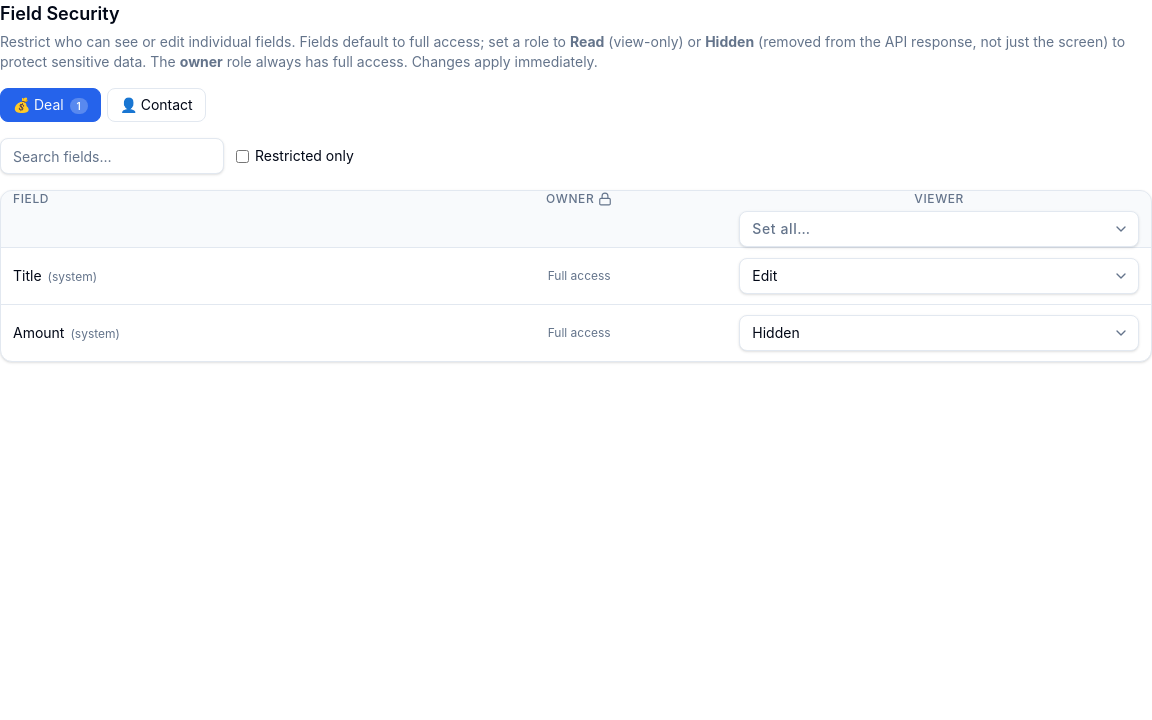
it: FieldSecurityManager — field × role level grid › bulk apply re-reads the grid, so the cells and the object badge show what landed
The image size is (1152, 720).
Expected: the text "Title" is shown, [13,267,42,284]
Step 1. Select "Read" in the dropdown named "Set all Viewer" → x=939, y=229, box [739,211,1139,247]
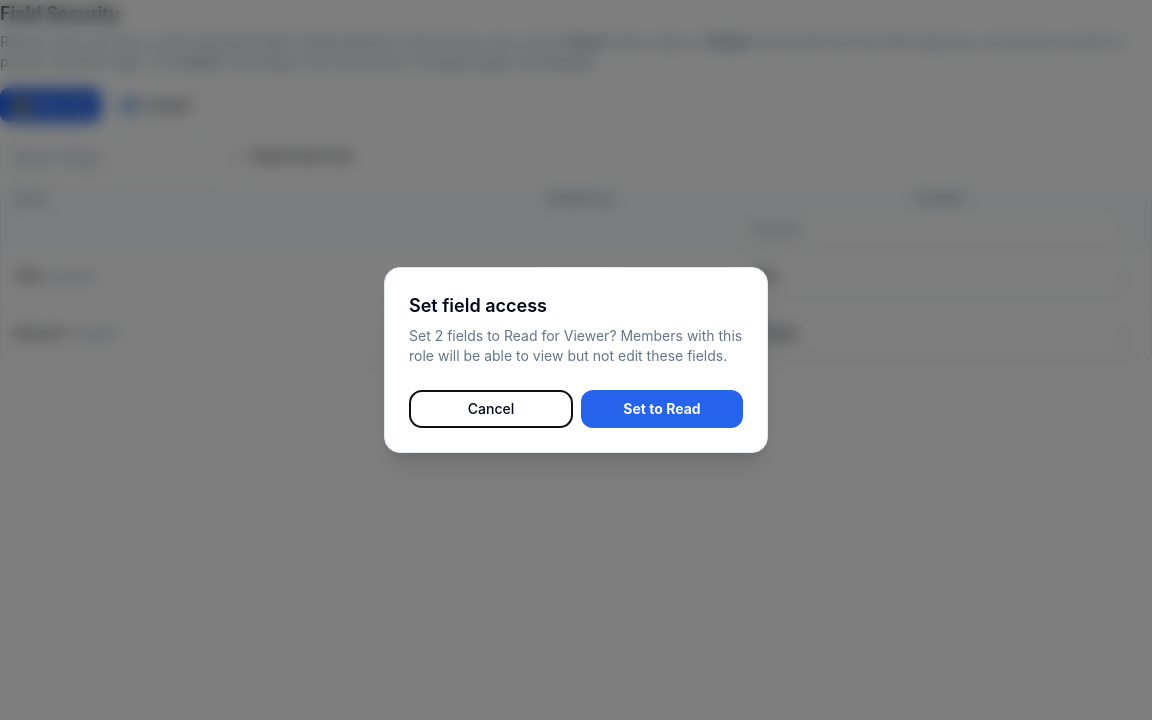
Expected: the dialog shows "Set 2 fields to Read for Viewer?", [409,327,742,364]
Step 2. Click the button "Set to Read" → x=662, y=409, box [581,390,743,428]
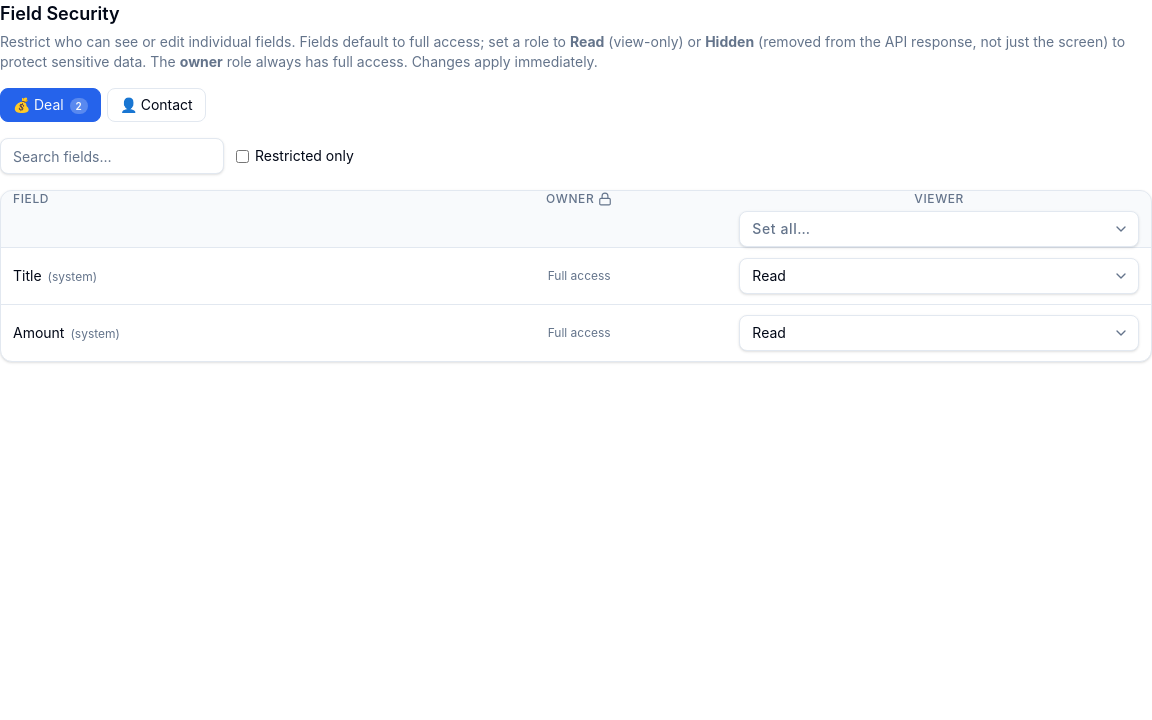
Expected: the text "2" is shown, [70,98,88,114]
Expected: the dropdown named "Viewer Title" shows "Read", [739,258,1139,294]
Expected: the dropdown named "Viewer Amount" shows "Read", [739,315,1139,351]
